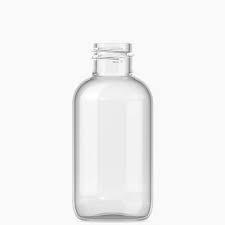Container for household chemicals: (60, 37, 170, 225)
